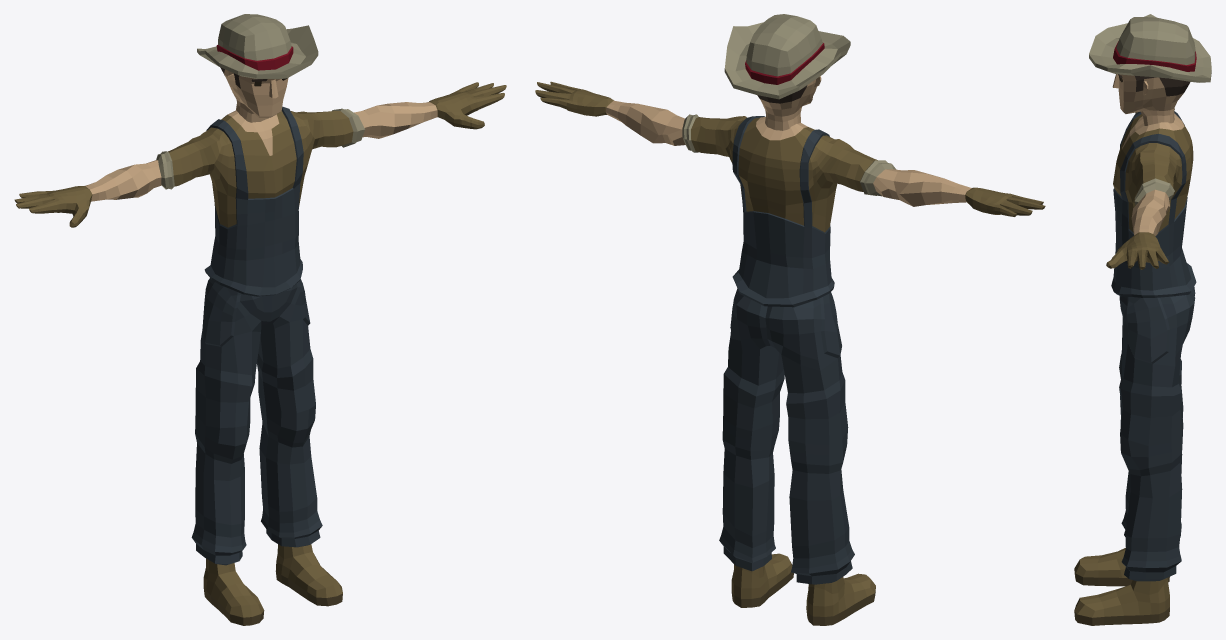
The model's file is farmer.glb.
3 views of the same model, side by side, from view 1: azimuth 30°, elevation 25°; view 2: azimuth 150°, elevation 25°; view 3: azimuth 270°, elevation 25° (orthographic). The views are drawn at different scales.
Parts seen in each view (by area): view 1: Farmer_Pants, Farmer_Body_bf5fef, Farmer_Body_cab829, Farmer_Head_2f535c, Farmer_Body_122e18, Farmer_Feet_0a129f, Farmer_Head_7669a5, Farmer_Feet_e17dc4, Farmer_Body_1088d1, Farmer_Head_b51bed; view 2: Farmer_Pants, Farmer_Body_bf5fef, Farmer_Body_cab829, Farmer_Head_2f535c, Farmer_Body_122e18, Farmer_Feet_0a129f, Farmer_Head_7669a5, Farmer_Feet_e17dc4, Farmer_Body_1088d1; view 3: Farmer_Pants, Farmer_Body_cab829, Farmer_Head_2f535c, Farmer_Body_bf5fef, Farmer_Feet_0a129f, Farmer_Head_7669a5, Farmer_Body_122e18, Farmer_Feet_e17dc4, Farmer_Head_b51bed, Farmer_Head_2a4c39, Farmer_Body_1088d1.
Part boxes in pixels (x1,y1,x2,y2): Farmer_Pants: (191, 278, 322, 565); Farmer_Body_bf5fef: (14, 82, 506, 227); Farmer_Body_cab829: (204, 106, 303, 296); Farmer_Head_2f535c: (197, 14, 318, 78); Farmer_Body_122e18: (85, 102, 437, 201); Farmer_Feet_0a129f: (203, 544, 342, 617); Farmer_Head_7669a5: (224, 69, 288, 122); Farmer_Feet_e17dc4: (203, 571, 342, 625); Farmer_Body_1088d1: (156, 108, 364, 189); Farmer_Head_b51bed: (216, 45, 293, 70); Farmer_Pants: (719, 288, 854, 584); Farmer_Body_bf5fef: (535, 81, 1045, 232); Farmer_Body_cab829: (732, 116, 834, 307); Farmer_Head_2f535c: (724, 14, 850, 99); Farmer_Body_122e18: (605, 100, 971, 206); Farmer_Feet_0a129f: (731, 553, 875, 616); Farmer_Head_7669a5: (760, 76, 821, 130); Farmer_Feet_e17dc4: (731, 572, 875, 625); Farmer_Body_1088d1: (682, 114, 896, 196); Farmer_Pants: (1119, 286, 1195, 581); Farmer_Body_cab829: (1111, 111, 1196, 297); Farmer_Head_2f535c: (1089, 14, 1211, 82); Farmer_Body_bf5fef: (1106, 112, 1193, 269); Farmer_Feet_0a129f: (1074, 547, 1169, 617); Farmer_Head_7669a5: (1112, 74, 1183, 125); Farmer_Body_122e18: (1122, 113, 1184, 235); Farmer_Feet_e17dc4: (1074, 569, 1169, 625); Farmer_Head_b51bed: (1113, 41, 1196, 71); Farmer_Head_2a4c39: (1118, 71, 1190, 96); Farmer_Body_1088d1: (1134, 108, 1174, 205).
Bounding box in the file's own units: 1.68 × 1.86 × 0.3999.
